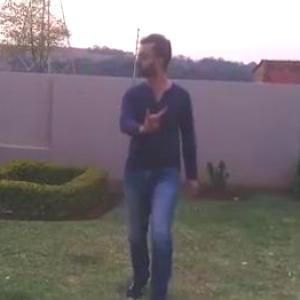takeoff-hand: (137, 96, 172, 135)
